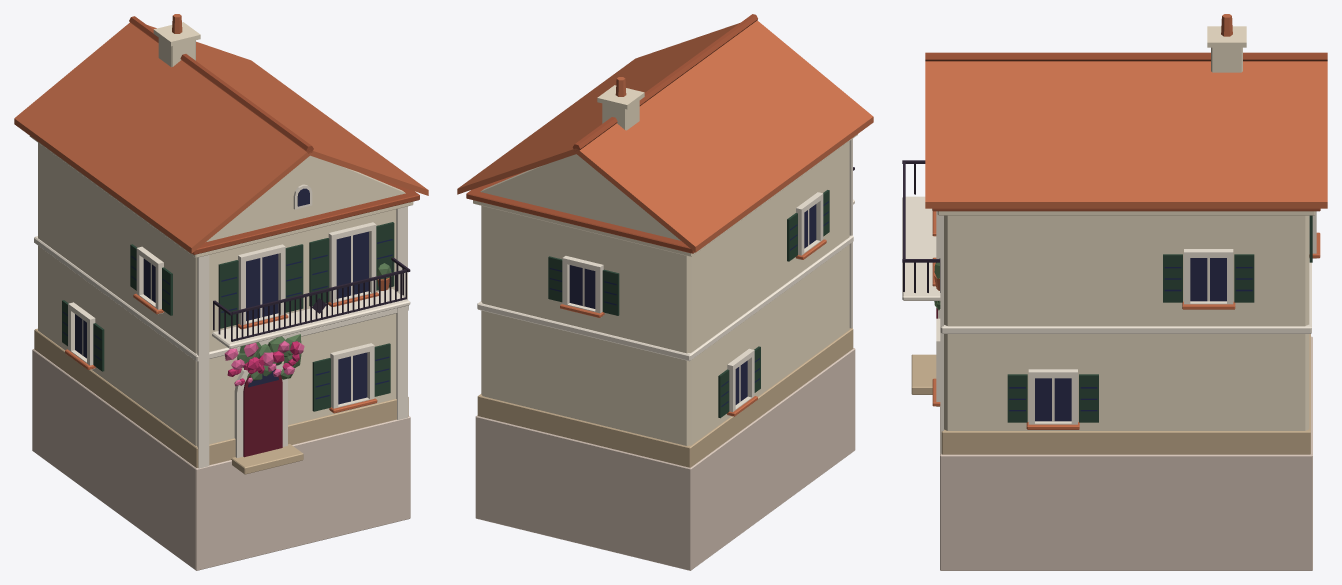
File: med_house_gable_mustard.glb
The picture shows the model from 3 angles, left to right: view 1: azimuth 30°, elevation 25°; view 2: azimuth 150°, elevation 25°; view 3: azimuth 270°, elevation 25°; orthographic projection. The views are drawn at different scales.
Parts seen in each view (by area): view 1: med_house_gable_mustard; view 2: med_house_gable_mustard; view 3: med_house_gable_mustard.
Part boxes in pixels (x1=…): med_house_gable_mustard: x1=14, y1=14, x2=428, y2=570; med_house_gable_mustard: x1=457, y1=14, x2=873, y2=570; med_house_gable_mustard: x1=902, y1=14, x2=1327, y2=570.
Bounding box in the file's own units: 6.8 × 11.97 × 9.3.
